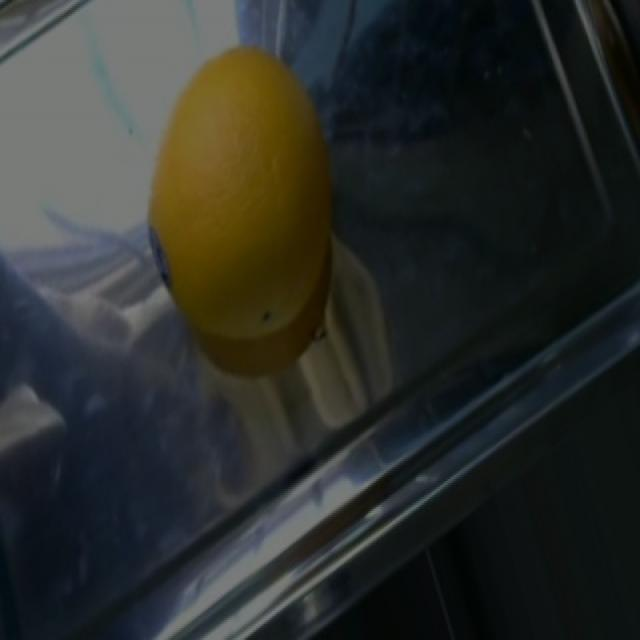Fruit: (133, 26, 350, 368)
